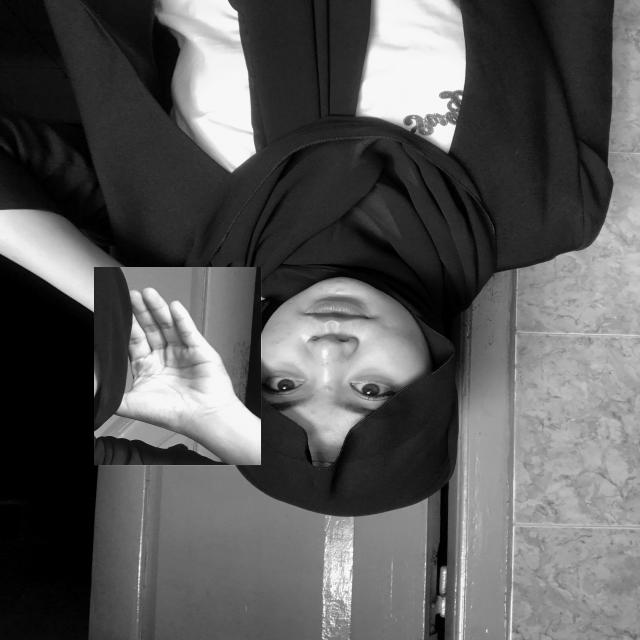mendengar: (94, 267, 262, 466)
